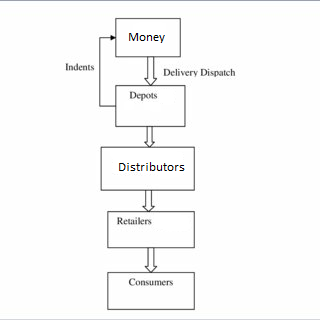arrow: (97, 33, 117, 109), (143, 54, 157, 86), (142, 247, 159, 271), (141, 189, 155, 212), (143, 125, 156, 148)
process: (98, 143, 197, 193), (105, 270, 196, 312), (105, 209, 197, 249), (113, 83, 187, 128), (113, 16, 183, 59)
text: (160, 67, 236, 78), (116, 160, 185, 172), (127, 276, 174, 287), (127, 31, 166, 43), (116, 215, 153, 226), (64, 60, 95, 72), (128, 89, 157, 101)
